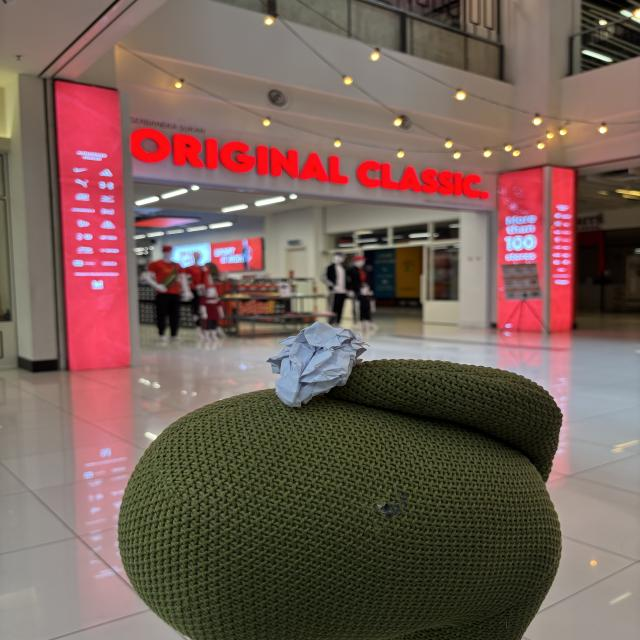crumpled_paper: (266, 310, 370, 412)
